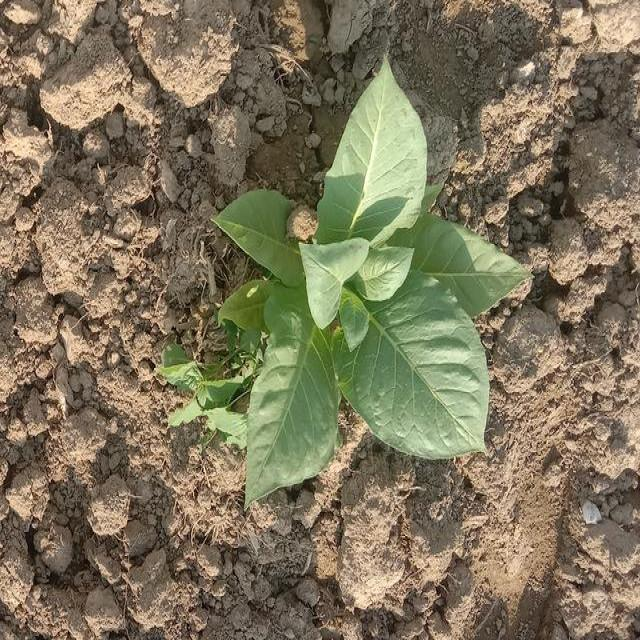crop: (226, 66, 510, 486)
